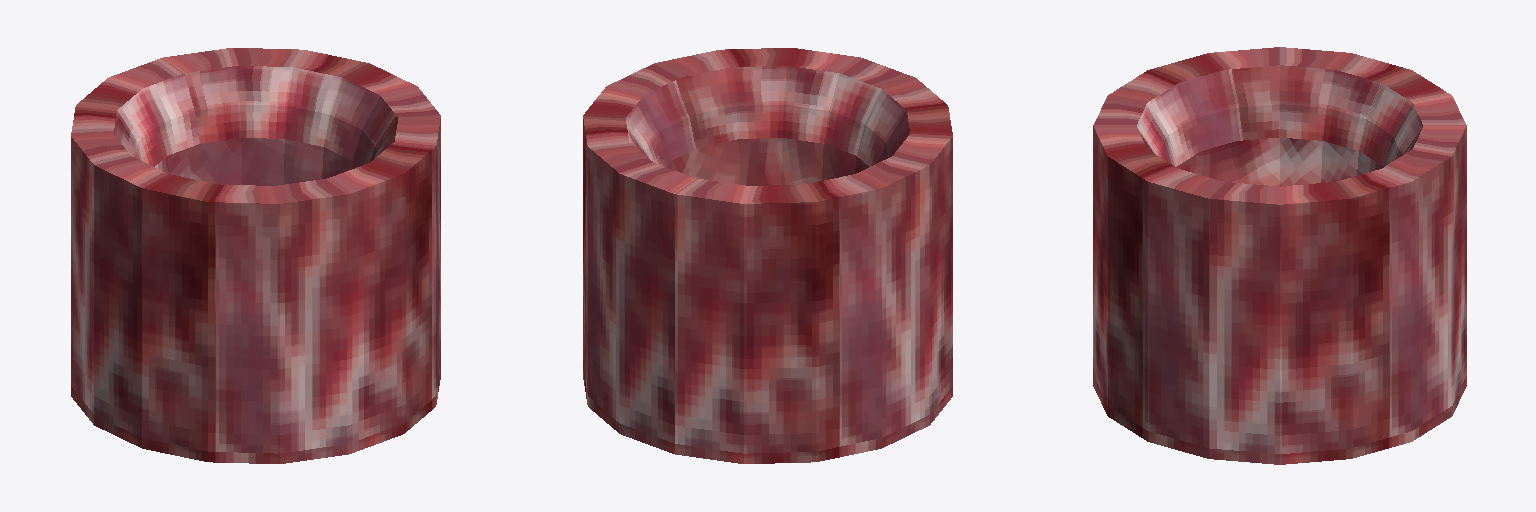
3 views of the same model, side by side, from view 1: azimuth 30°, elevation 25°; view 2: azimuth 150°, elevation 25°; view 3: azimuth 270°, elevation 25° (orthographic).
Parts seen in each view (by area): view 1: Cylinder; view 2: Cylinder; view 3: Cylinder.
Boxes of the visible parts, <box> form: Cylinder: <box>71,48,440,463</box>; Cylinder: <box>583,48,952,463</box>; Cylinder: <box>1093,47,1466,464</box>.
Size of the model in its own units: 13 by 10 by 13.
1 materials, 1 textured.